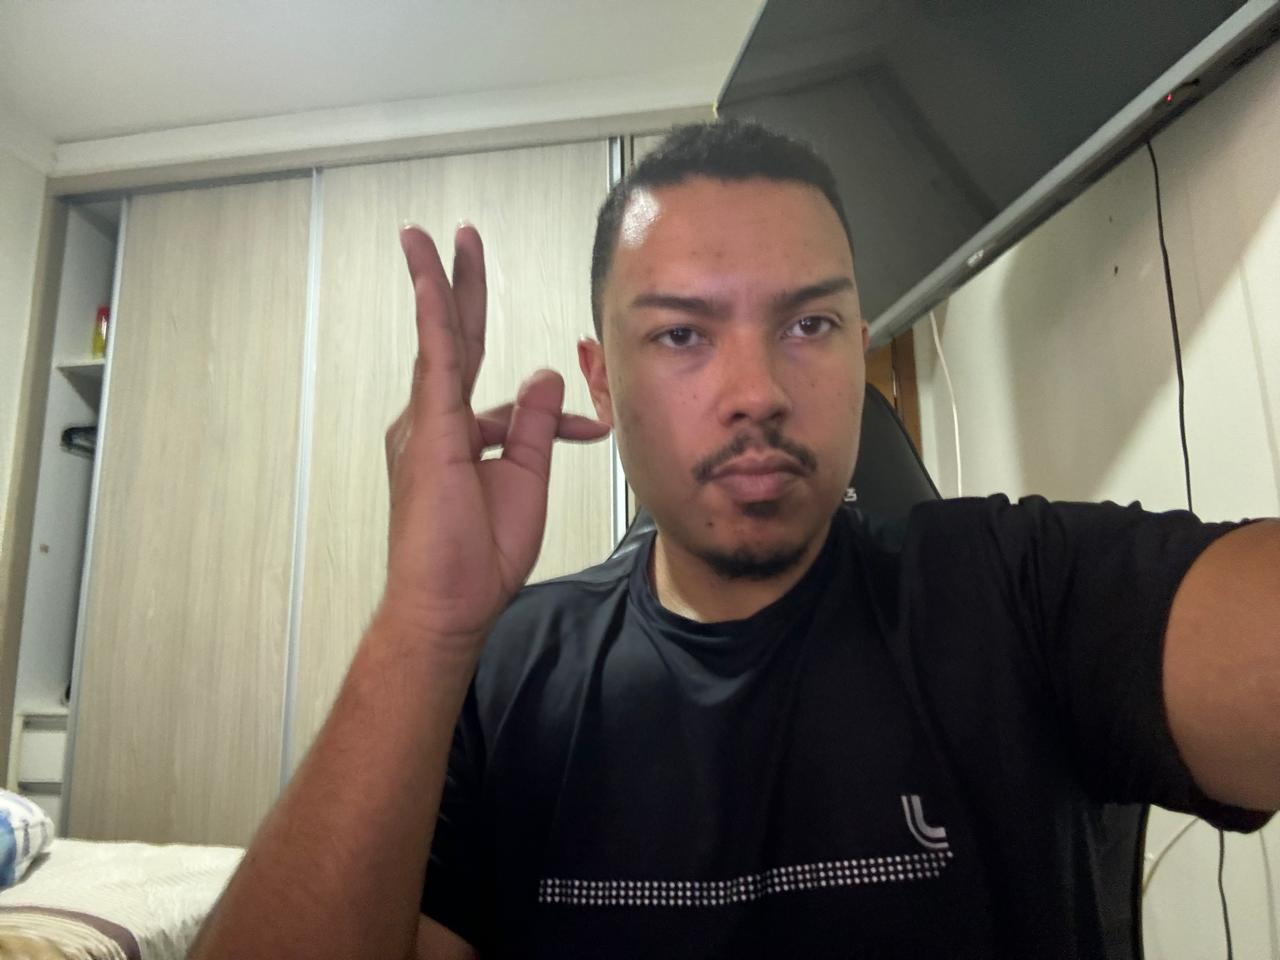t: (346, 220, 616, 637)
